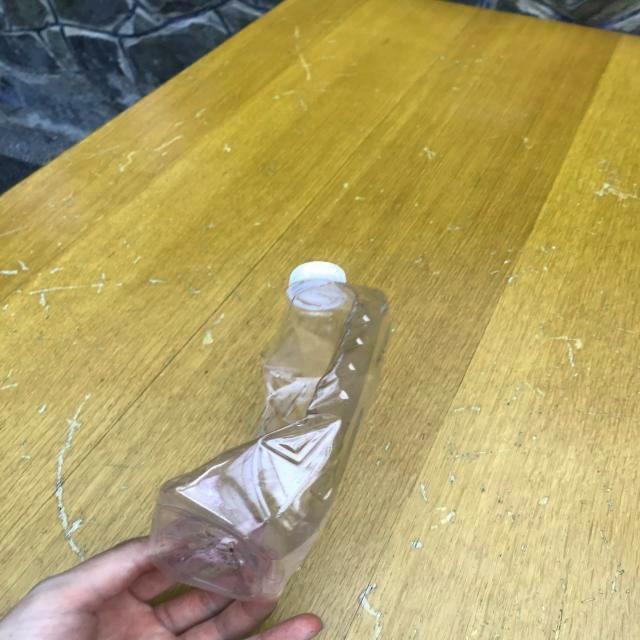bottle: (148, 262, 391, 602)
